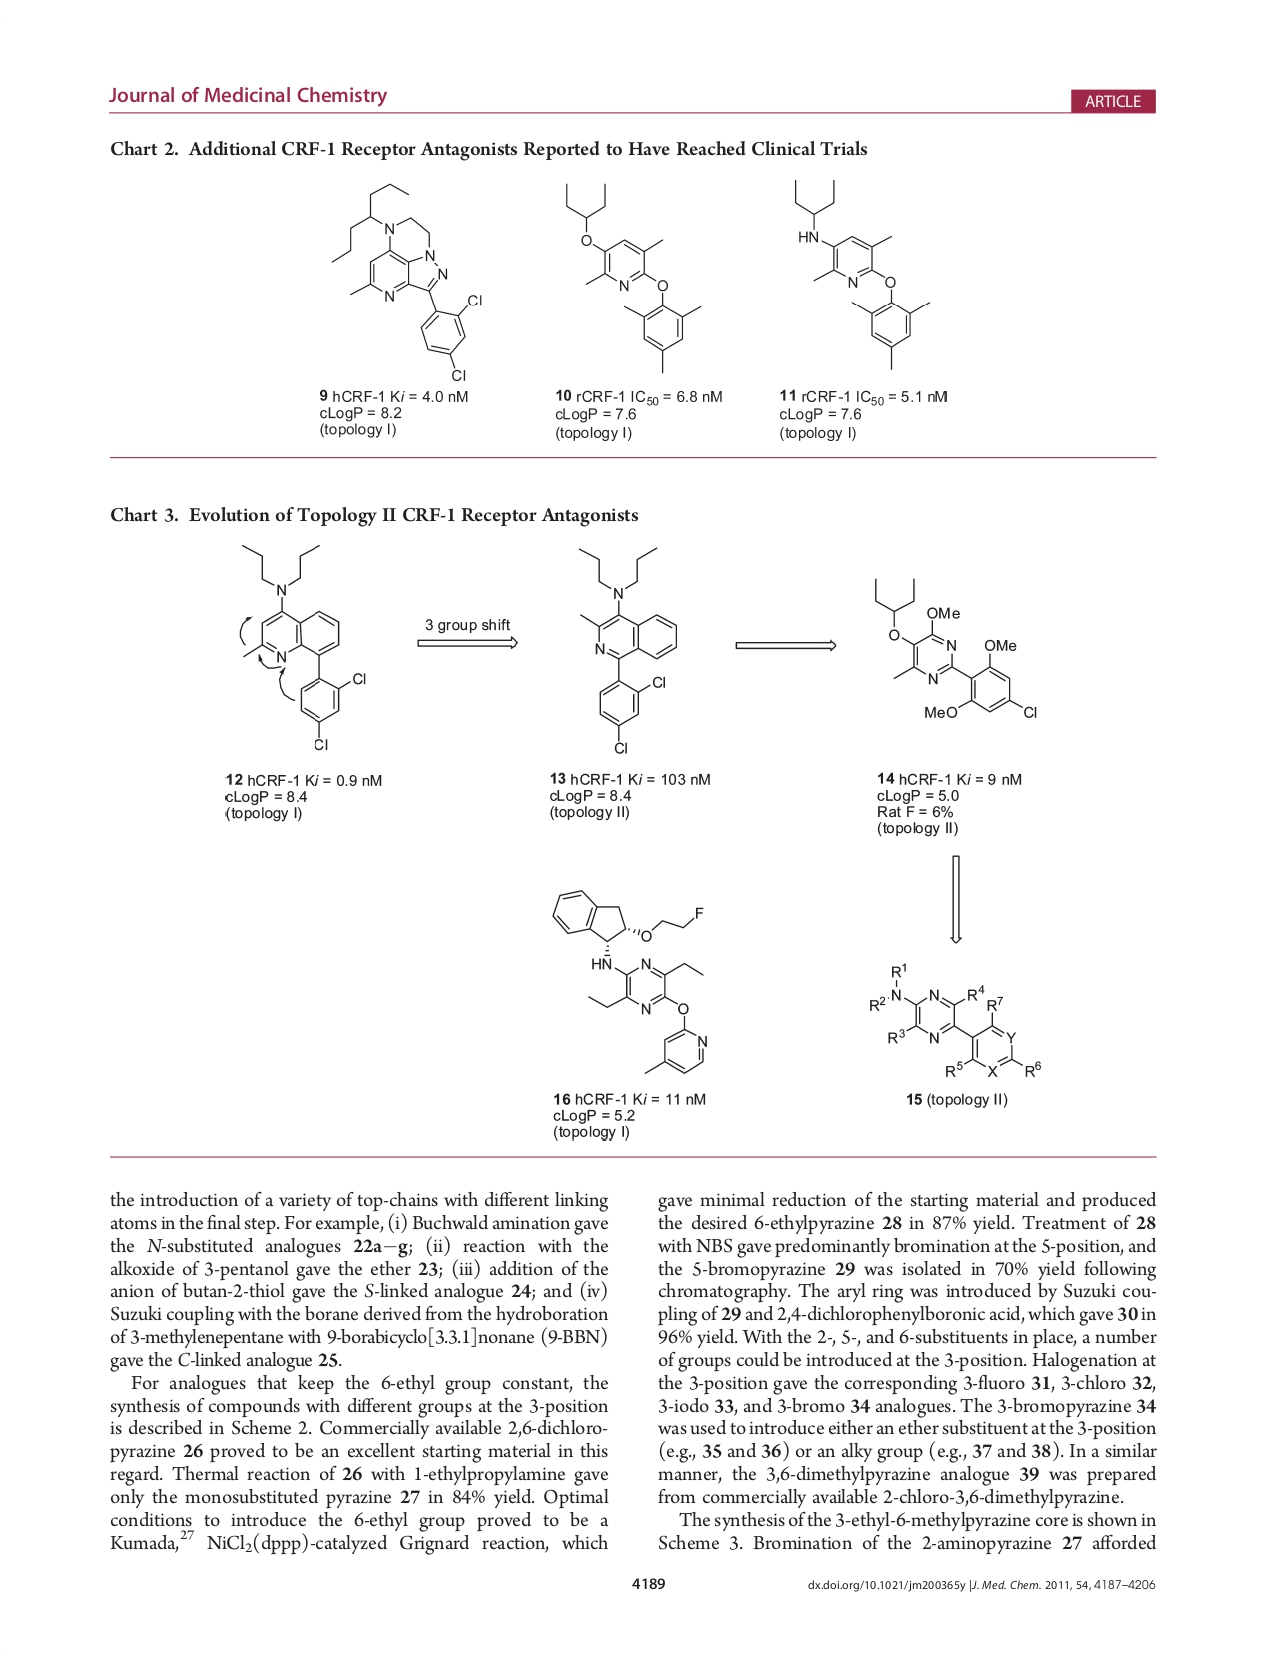exist_molecular: (327, 181, 487, 383), (551, 884, 711, 1075), (789, 173, 934, 372), (559, 180, 703, 376), (235, 540, 368, 754), (868, 573, 1043, 722), (570, 544, 682, 757), (868, 960, 1044, 1083)
